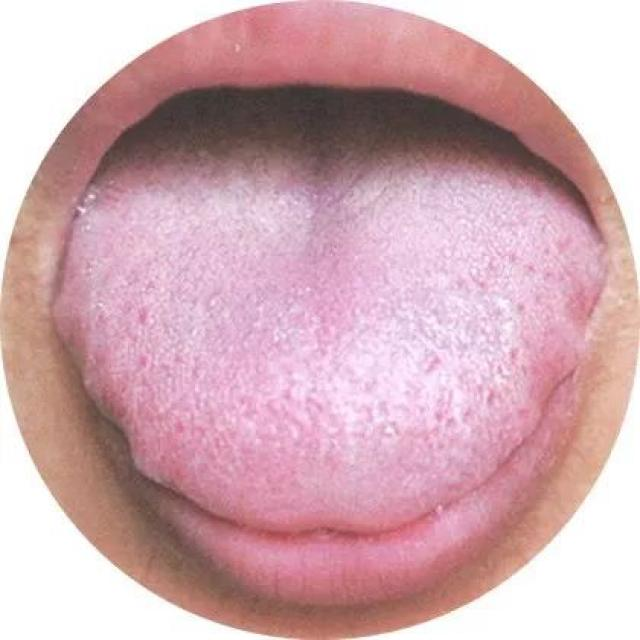tongue: (48, 130, 602, 536)
